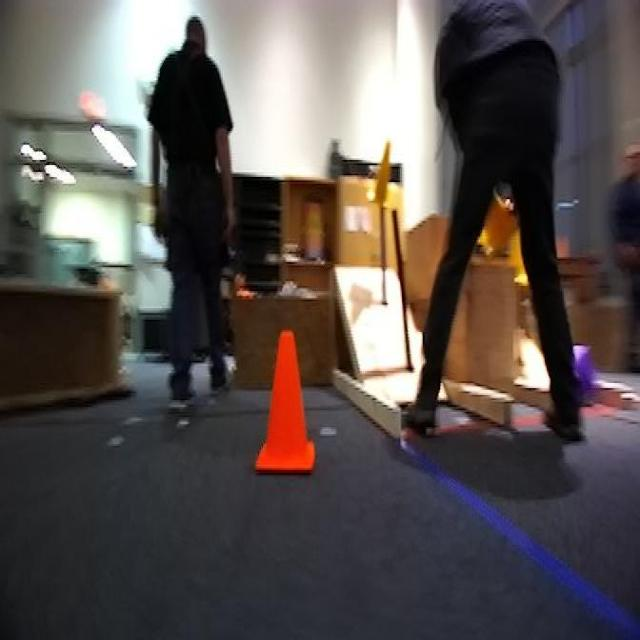frc_cone: (477, 188, 521, 255), (369, 138, 398, 206)
frc_cube: (562, 345, 594, 407)
